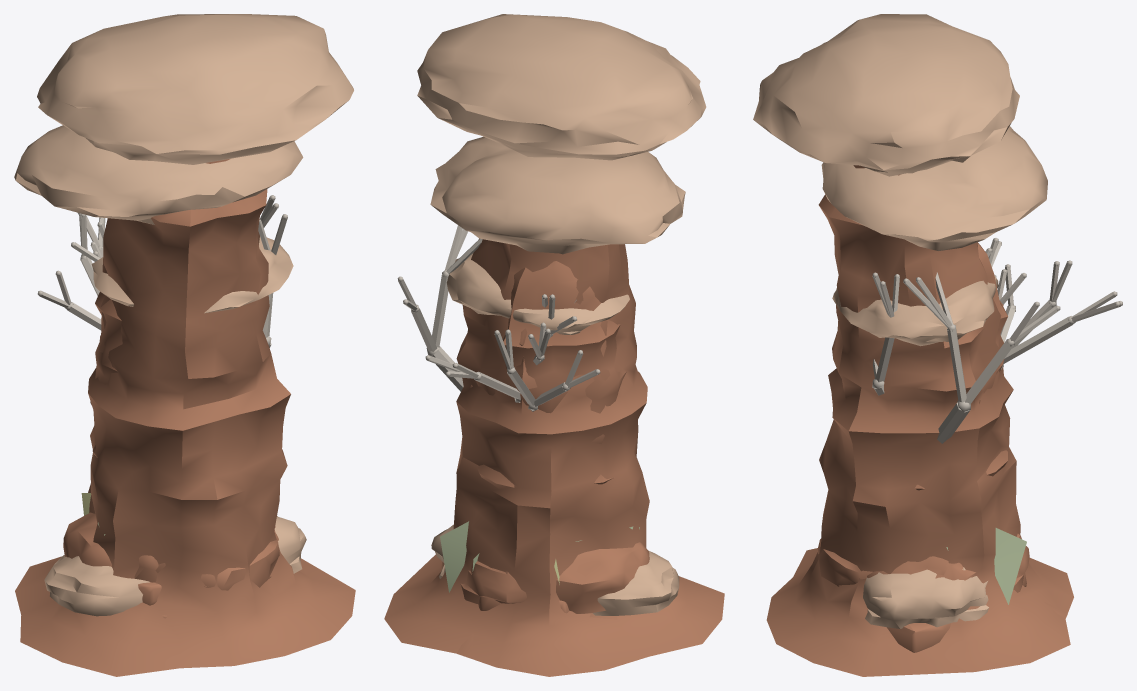
The model's file is DesertProps.fbx.
The picture shows the model from 3 angles, left to right: view 1: azimuth 30°, elevation 25°; view 2: azimuth 150°, elevation 25°; view 3: azimuth 270°, elevation 25°; orthographic projection. The views are drawn at different scales.
Parts seen in each view (by area): view 1: Hoodoo_2, Hoodoo_1, Boulder_2, Boulder_4, Hoodoo_0, DeadTree_0, DeadTree_1, Boulder_0; view 2: Hoodoo_2, Hoodoo_1, Boulder_4, Hoodoo_0, Boulder_2, DeadTree_1, DeadTree_0, Scrub_1; view 3: Hoodoo_2, Hoodoo_1, Boulder_2, DeadTree_1, Hoodoo_0, DeadTree_0, Boulder_4, Scrub_1, Slab_0, Boulder_0.
Boxes of the visible parts, <box> form: Hoodoo_2: <box>15,14,355,676</box>; Hoodoo_1: <box>14,125,303,457</box>; Boulder_2: <box>44,516,306,616</box>; Boulder_4: <box>63,512,279,590</box>; Hoodoo_0: <box>91,237,293,313</box>; DeadTree_0: <box>37,213,105,330</box>; DeadTree_1: <box>90,195,287,347</box>; Boulder_0: <box>134,526,278,582</box>; Hoodoo_2: <box>384,14,724,676</box>; Hoodoo_1: <box>430,137,685,656</box>; Boulder_4: <box>460,542,649,613</box>; Hoodoo_0: <box>446,253,629,334</box>; Boulder_2: <box>431,524,679,615</box>; DeadTree_1: <box>397,225,550,391</box>; DeadTree_0: <box>425,294,600,411</box>; Scrub_1: <box>440,521,639,592</box>; Hoodoo_2: <box>753,14,1073,676</box>; Hoodoo_1: <box>821,126,1067,618</box>; Boulder_2: <box>863,567,988,628</box>; DeadTree_1: <box>872,248,1060,443</box>; Hoodoo_0: <box>832,276,998,346</box>; DeadTree_0: <box>988,238,1122,369</box>; Boulder_4: <box>818,534,1029,592</box>; Scrub_1: <box>946,528,1026,604</box>; Slab_0: <box>887,623,950,652</box>; Boulder_0: <box>867,556,948,577</box>.
Size of what is drawn, in the model's own units: 4.49 by 8.17 by 4.89.
